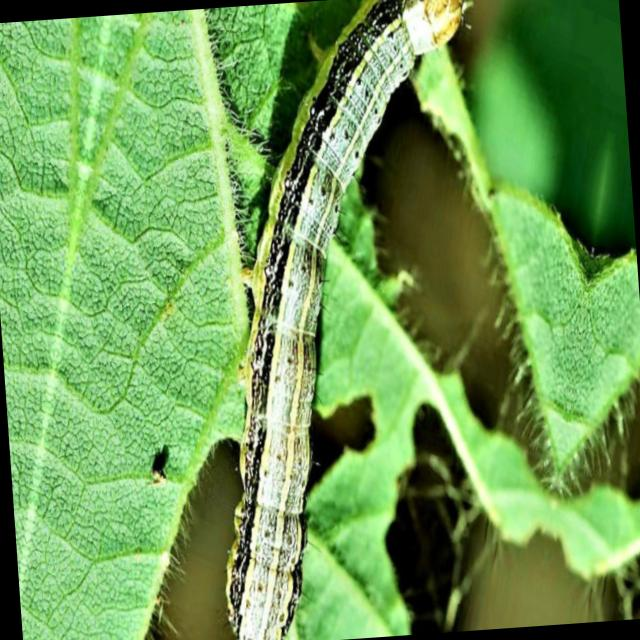Armyworm: (181, 1, 512, 640)
